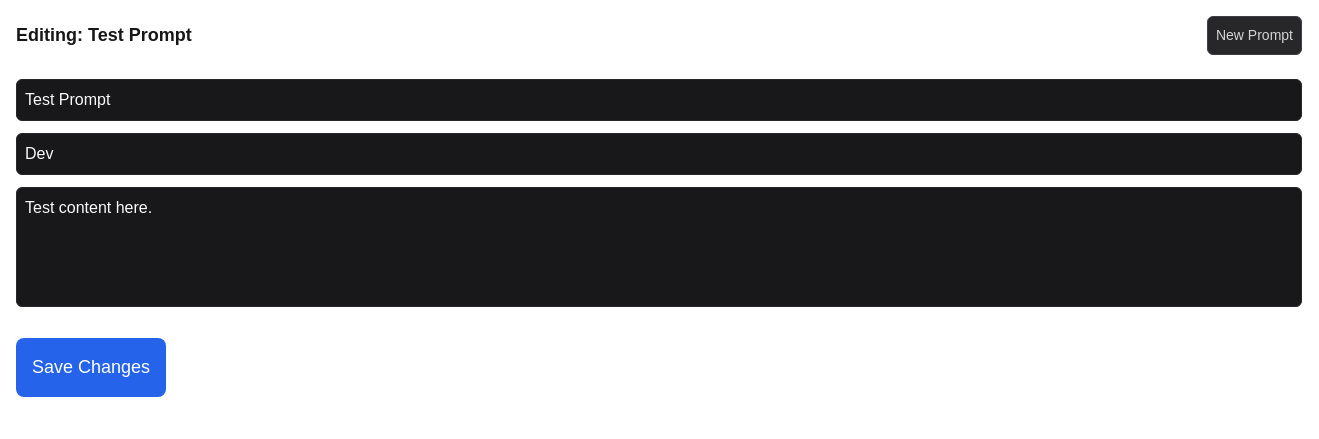
PromptEditor › edits an existing prompt
Step 1. Replace the text in the field named "Prompt Title" with "Test Prompt Edited" → (659, 100), box [16,79,1302,121]
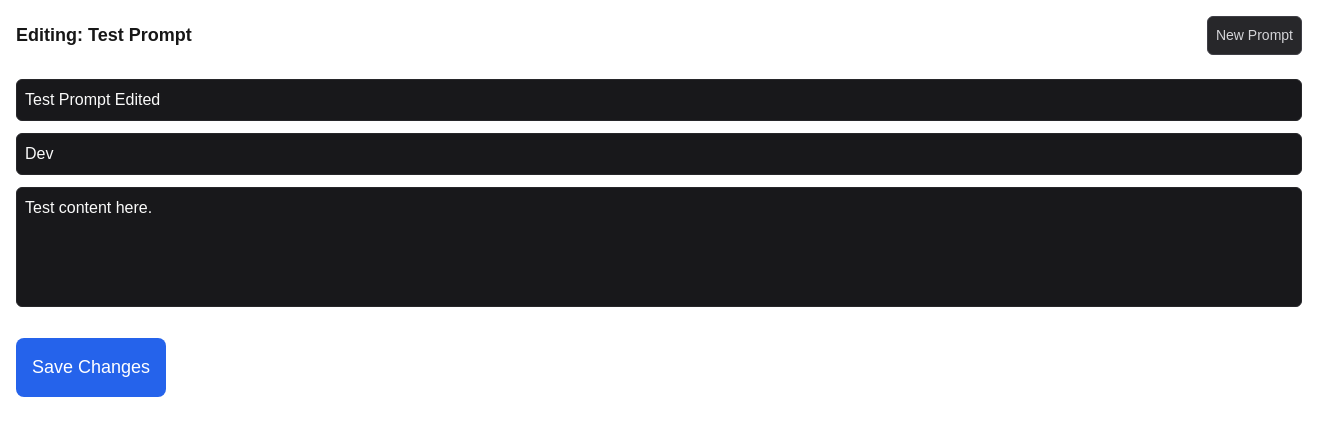
Step 2. Click the button "Save Changes" → (91, 368), box [16,338,166,397]
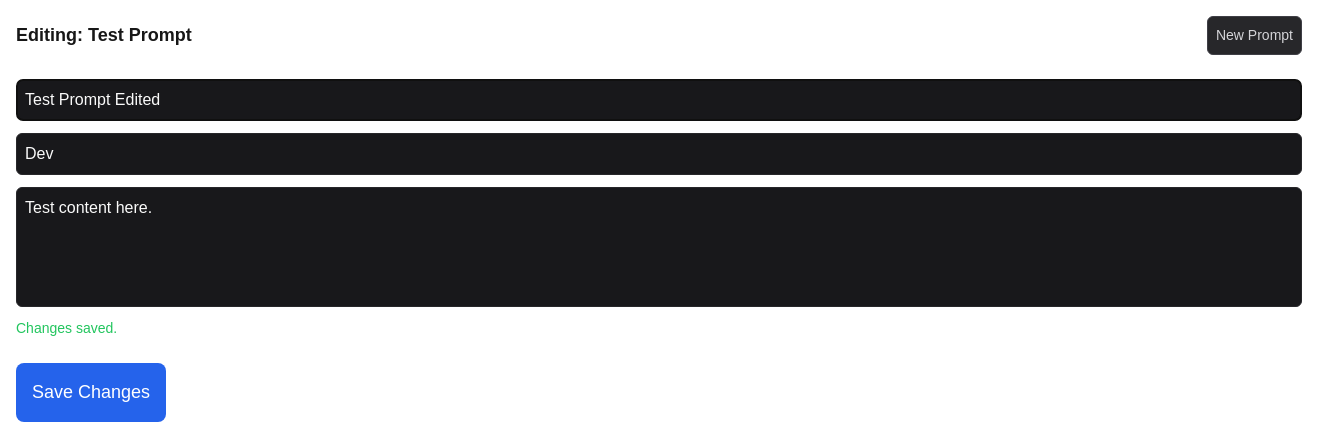
expect the text "Changes saved." is shown: met, box [16,320,117,336]
